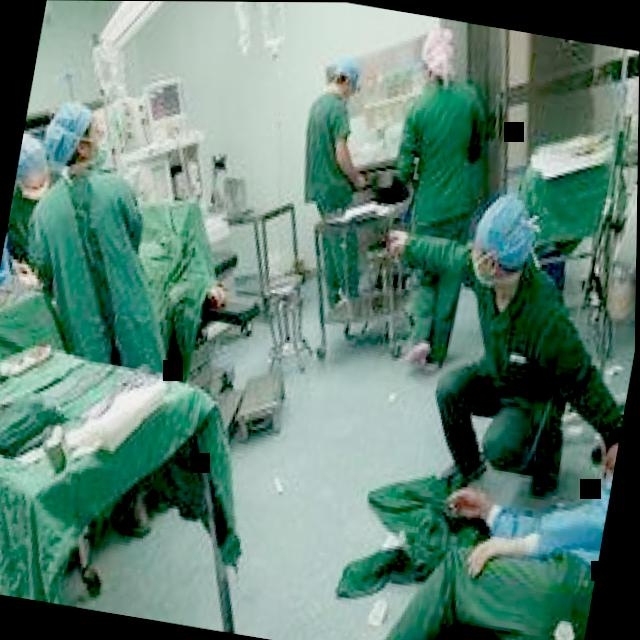Fall-Detected: (291, 348, 628, 640)
